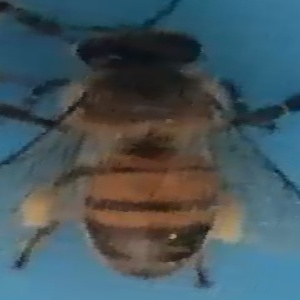bee: (18, 8, 287, 283)
